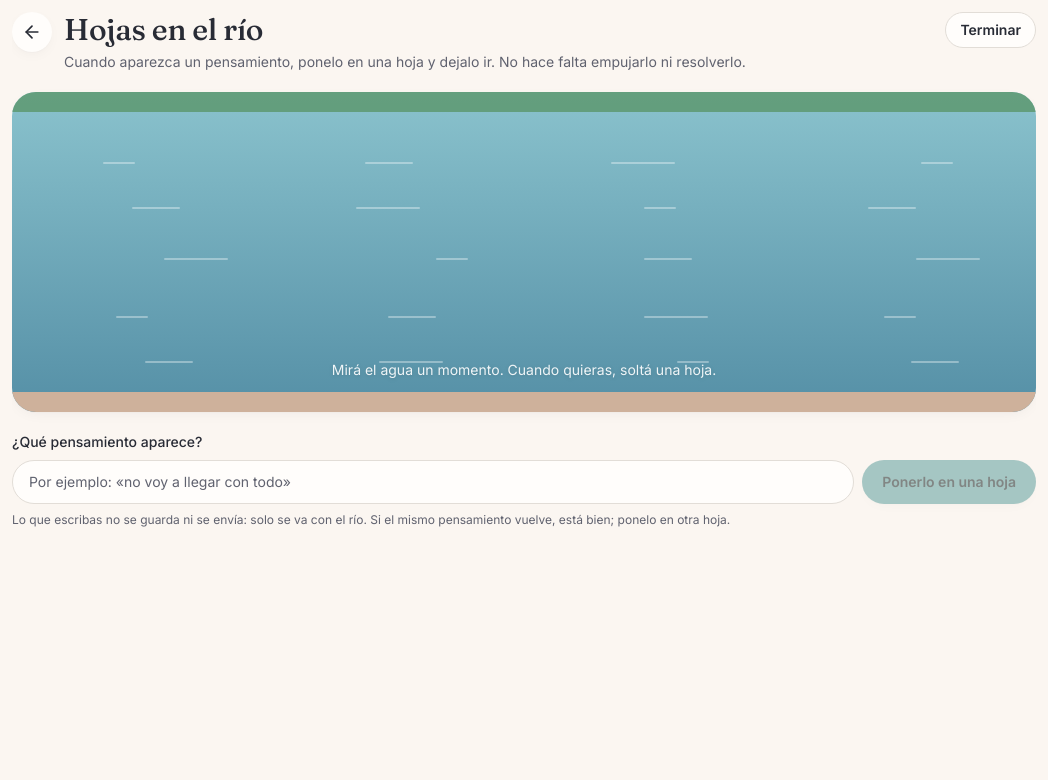
Scenario: LeavesGamePage › keeps a gentle offer of help visible after releasing something heavy
This screenshot has width=1048, height=780.
Type "no quiero vivir más" into the field labelled "¿Qué pensamiento aparece?" at (433, 482), box [12, 460, 854, 504]
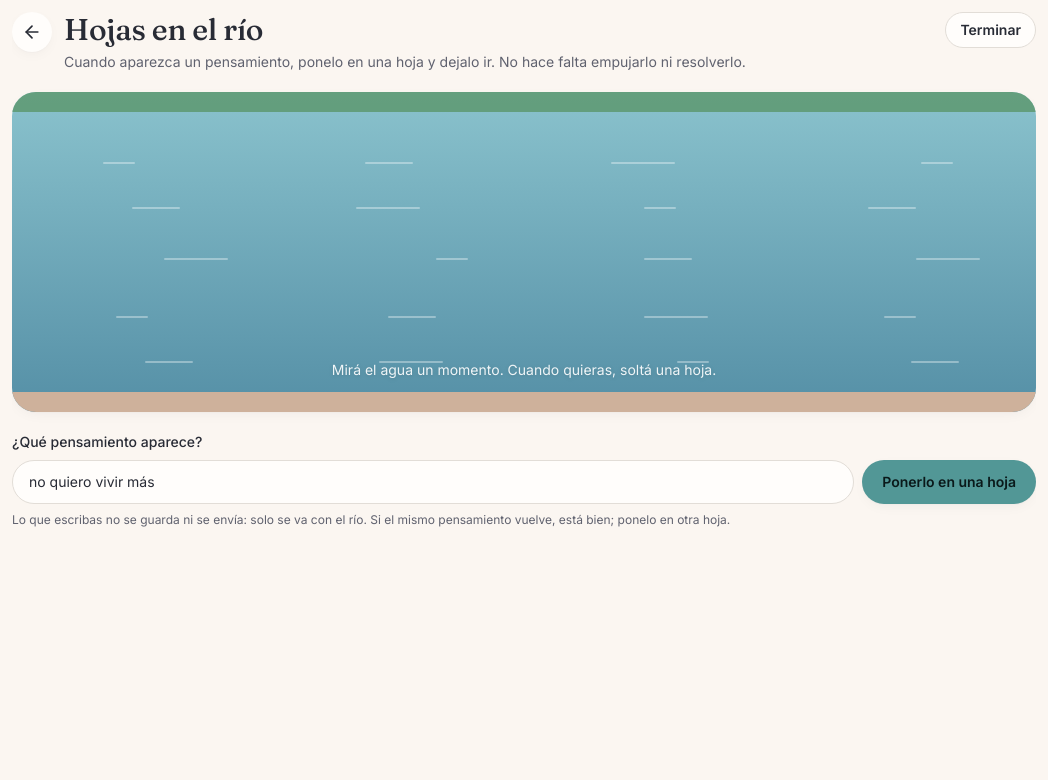
Click the button "Ponerlo en una hoja" at (949, 482), box [862, 460, 1036, 504]
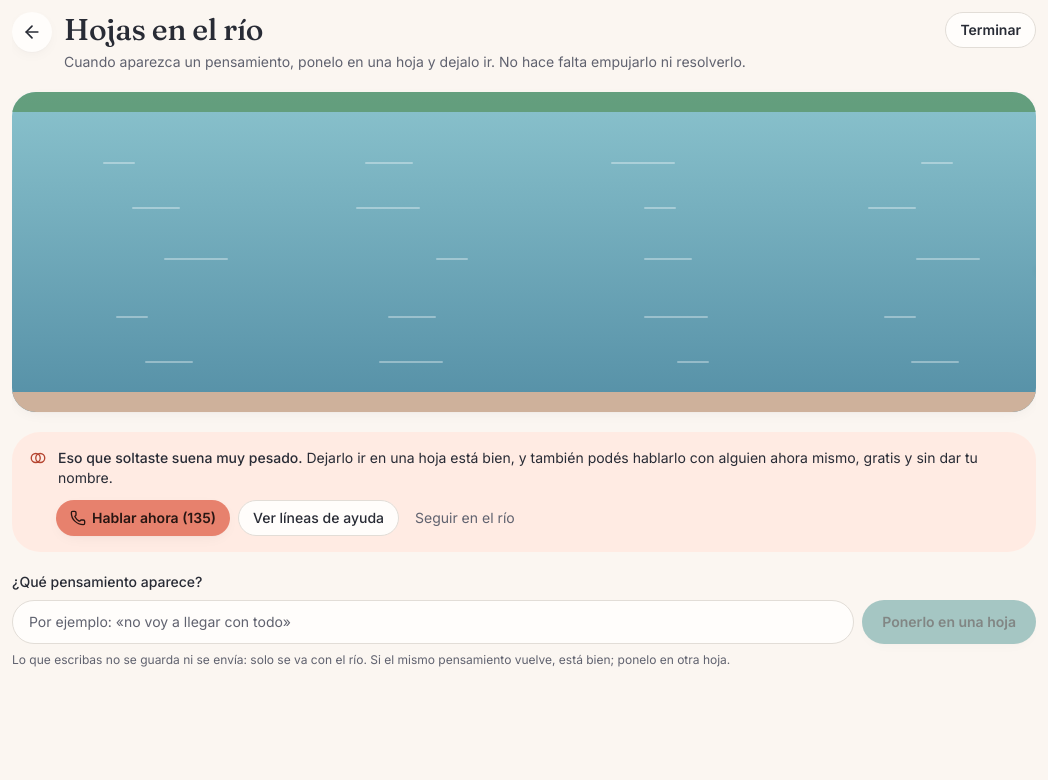
Result: the text "Eso que soltaste suena muy pesado." is shown at [58, 449, 302, 466]
Click the button "Seguir en el río" at (465, 518), box [407, 500, 523, 536]
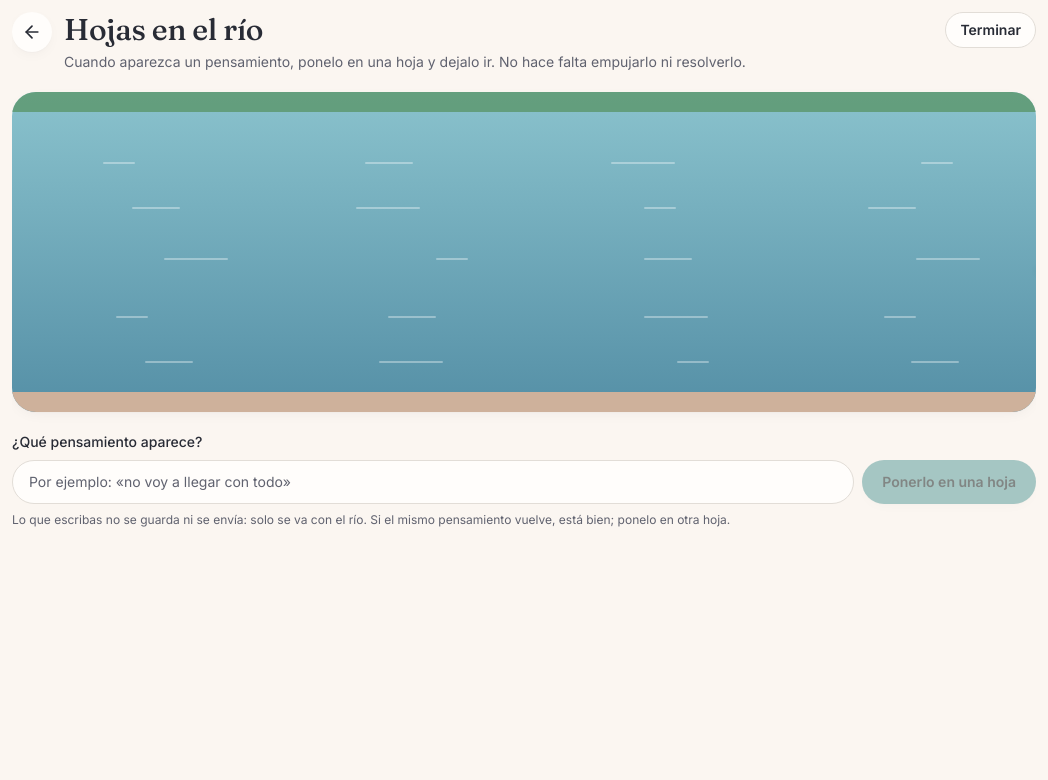
Result: the text "Eso que soltaste suena muy pesado" is gone
